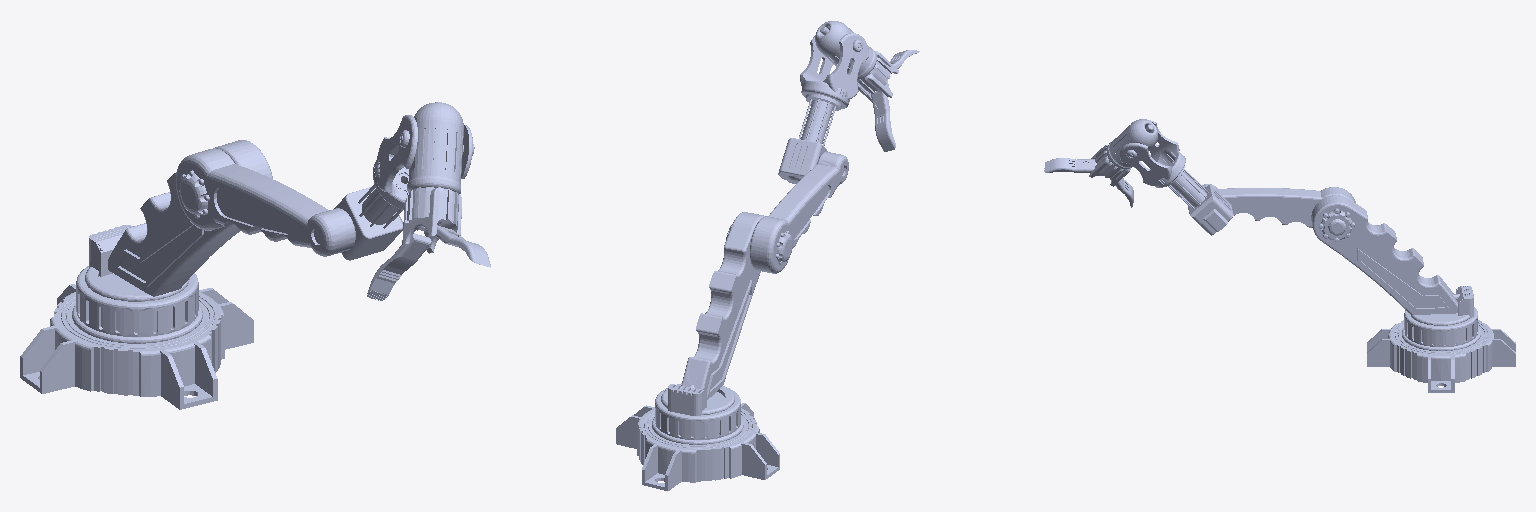
URDF robot description (URDF_File):
<?xml version="1.0" encoding="utf-8"?>
<!-- This URDF was automatically created by SolidWorks to URDF Exporter! Originally created by Stephen Brawner (brawner@gmail.com) 
     Commit Version: 1.6.0-4-g7f85cfe  Build Version: 1.6.7995.38578
     For more information, please see http://wiki.ros.org/sw_urdf_exporter -->
<robot
  name="URDF_File">
  <link
    name="base_link">
    <inertial>
      <origin
        xyz="0.734997102971328 0.912682713959791 1.66092425300606"
        rpy="0 0 0" />
      <mass
        value="0.19683911198545" />
      <inertia
        ixx="0.000157602923532635"
        ixy="-2.95697983666656E-12"
        ixz="-2.34713669448435E-12"
        iyy="0.000288935019063439"
        iyz="-6.78167971117147E-13"
        izz="0.00015760293085515" />
    </inertial>
    <visual>
      <origin
        xyz="0 0 0"
        rpy="0 0 0" />
      <geometry>
        <mesh
          filename="package://URDF_File/meshes/base_link.STL" />
      </geometry>
      <material
        name="">
        <color
          rgba="0.792156862745098 0.819607843137255 0.933333333333333 1" />
      </material>
    </visual>
    <collision>
      <origin
        xyz="0 0 0"
        rpy="0 0 0" />
      <geometry>
        <mesh
          filename="package://URDF_File/meshes/base_link.STL" />
      </geometry>
    </collision>
  </link>
  <link
    name="link_1">
    <inertial>
      <origin
        xyz="-0.0352534137532734 0.0544764472605392 0.000165900412199216"
        rpy="0 0 0" />
      <mass
        value="0.216437188994971" />
      <inertia
        ixx="0.000425816899607148"
        ixy="0.00034824136714245"
        ixz="2.3243694230645E-06"
        iyy="0.00040780769416716"
        iyz="-2.35242628739174E-06"
        izz="0.000774828097723678" />
    </inertial>
    <visual>
      <origin
        xyz="0 0 0"
        rpy="0 0 0" />
      <geometry>
        <mesh
          filename="package://URDF_File/meshes/link_1.STL" />
      </geometry>
      <material
        name="">
        <color
          rgba="0.792156862745098 0.819607843137255 0.933333333333333 1" />
      </material>
    </visual>
    <collision>
      <origin
        xyz="0 0 0"
        rpy="0 0 0" />
      <geometry>
        <mesh
          filename="package://URDF_File/meshes/link_1.STL" />
      </geometry>
    </collision>
  </link>
  <joint
    name="joint_1"
    type="revolute">
    <origin
      xyz="0.735 -1.6609 0.92692"
      rpy="1.5708 0 1.6636" />
    <parent
      link="base_link" />
    <child
      link="link_1" />
    <axis
      xyz="0 1 0" />
    <limit
      lower="-1.6636"
      upper="4.6195"
      effort="0"
      velocity="0" />
  </joint>
  <link
    name="link_2">
    <inertial>
      <origin
        xyz="0.0303906357249393 0.0327151697944846 -0.0198594675292627"
        rpy="0 0 0" />
      <mass
        value="0.0829500212065481" />
      <inertia
        ixx="9.77626418552881E-05"
        ixy="-7.8855513346753E-05"
        ixz="-1.66094857110532E-06"
        iyy="8.03607749319589E-05"
        iyz="-1.8454306535632E-06"
        izz="0.000172168894460945" />
    </inertial>
    <visual>
      <origin
        xyz="0 0 0"
        rpy="0 0 0" />
      <geometry>
        <mesh
          filename="package://URDF_File/meshes/link_2.STL" />
      </geometry>
      <material
        name="">
        <color
          rgba="0.792156862745098 0.819607843137255 0.933333333333333 1" />
      </material>
    </visual>
    <collision>
      <origin
        xyz="0 0 0"
        rpy="0 0 0" />
      <geometry>
        <mesh
          filename="package://URDF_File/meshes/link_2.STL" />
      </geometry>
    </collision>
  </link>
  <joint
    name="joint_2"
    type="revolute">
    <origin
      xyz="-0.1 0.12 0"
      rpy="0 0 2.1453" />
    <parent
      link="link_1" />
    <child
      link="link_2" />
    <axis
      xyz="0 0 1" />
    <limit
      lower="-0.5745"
      upper="2.0435"
      effort="0"
      velocity="0" />
  </joint>
  <link
    name="link_3">
    <inertial>
      <origin
        xyz="0.00544015056289993 -4.93319948886572E-05 0.0103108380935137"
        rpy="0 0 0" />
      <mass
        value="0.0380413662386378" />
      <inertia
        ixx="1.67487659030387E-05"
        ixy="-8.26029449611265E-10"
        ixz="2.51459733542313E-07"
        iyy="1.68304213957508E-05"
        iyz="-1.93499512028125E-08"
        izz="4.59398992732497E-06" />
    </inertial>
    <visual>
      <origin
        xyz="0 0 0"
        rpy="0 0 0" />
      <geometry>
        <mesh
          filename="package://URDF_File/meshes/link_3.STL" />
      </geometry>
      <material
        name="">
        <color
          rgba="0.792156862745098 0.819607843137255 0.933333333333333 1" />
      </material>
    </visual>
    <collision>
      <origin
        xyz="0 0 0"
        rpy="0 0 0" />
      <geometry>
        <mesh
          filename="package://URDF_File/meshes/link_3.STL" />
      </geometry>
    </collision>
  </link>
  <joint
    name="joint_3"
    type="revolute">
    <origin
      xyz="0.08 0.09 0"
      rpy="0.020517 -1.5708 -2.9892" />
    <parent
      link="link_2" />
    <child
      link="link_3" />
    <axis
      xyz="1 0 0" />
    <limit
      lower="-3.6652"
      upper="0"
      effort="0"
      velocity="0" />
  </joint>
  <link
    name="link_4">
    <inertial>
      <origin
        xyz="-0.0576492255972498 -4.46302905572349E-05 -2.06911421329892E-09"
        rpy="0 0 0" />
      <mass
        value="0.0155107195890674" />
      <inertia
        ixx="4.94934587476133E-06"
        ixy="-7.38219625007412E-09"
        ixz="-1.58763518083502E-13"
        iyy="8.63267926714746E-06"
        iyz="2.24331897575693E-12"
        izz="6.62214527950041E-06" />
    </inertial>
    <visual>
      <origin
        xyz="0 0 0"
        rpy="0 0 0" />
      <geometry>
        <mesh
          filename="package://URDF_File/meshes/link_4.STL" />
      </geometry>
      <material
        name="">
        <color
          rgba="0.792156862745098 0.819607843137255 0.933333333333333 1" />
      </material>
    </visual>
    <collision>
      <origin
        xyz="0 0 0"
        rpy="0 0 0" />
      <geometry>
        <mesh
          filename="package://URDF_File/meshes/link_4.STL" />
      </geometry>
    </collision>
  </link>
  <joint
    name="joint_4"
    type="revolute">
    <origin
      xyz="0.005 0 0.016686"
      rpy="-2.5855 1.5708 0.10203" />
    <parent
      link="link_3" />
    <child
      link="link_4" />
    <axis
      xyz="1 0 0" />
    <limit
      lower="-2.7012"
      upper="3.5819"
      effort="0"
      velocity="0" />
  </joint>
  <link
    name="link_5">
    <inertial>
      <origin
        xyz="0.00529334678960258 -5.04345454288568E-10 3.74202779873656E-10"
        rpy="0 0 0" />
      <mass
        value="0.0341873154887201" />
      <inertia
        ixx="3.71520745752416E-06"
        ixy="-3.00966001083494E-13"
        ixz="1.05051905342285E-13"
        iyy="8.9897176822164E-06"
        iyz="-9.69600768832662E-13"
        izz="9.03156179709511E-06" />
    </inertial>
    <visual>
      <origin
        xyz="0 0 0"
        rpy="0 0 0" />
      <geometry>
        <mesh
          filename="package://URDF_File/meshes/link_5.STL" />
      </geometry>
      <material
        name="">
        <color
          rgba="0.792156862745098 0.819607843137255 0.933333333333333 1" />
      </material>
    </visual>
    <collision>
      <origin
        xyz="0 0 0"
        rpy="0 0 0" />
      <geometry>
        <mesh
          filename="package://URDF_File/meshes/link_5.STL" />
      </geometry>
    </collision>
  </link>
  <joint
    name="joint_5"
    type="revolute">
    <origin
      xyz="-0.086314 0 0"
      rpy="0 0 1.3734" />
    <parent
      link="link_4" />
    <child
      link="link_5" />
    <axis
      xyz="0 0 1" />
    <limit
      lower="-2.9442"
      upper="0.54645"
      effort="0"
      velocity="0" />
  </joint>
  <link
    name="link_6">
    <inertial>
      <origin
        xyz="-3.89770926645383E-09 -5.23870573113927E-05 0.0142195256677706"
        rpy="0 0 0" />
      <mass
        value="0.0150583556968641" />
      <inertia
        ixx="1.55157683877852E-06"
        ixy="1.54742030779095E-12"
        ixz="4.8383520530189E-13"
        iyy="1.62221000287817E-06"
        iyz="-8.33726923777709E-10"
        izz="1.74198491814524E-06" />
    </inertial>
    <visual>
      <origin
        xyz="0 0 0"
        rpy="0 0 0" />
      <geometry>
        <mesh
          filename="package://URDF_File/meshes/link_6.STL" />
      </geometry>
      <material
        name="">
        <color
          rgba="0.792156862745098 0.819607843137255 0.933333333333333 1" />
      </material>
    </visual>
    <collision>
      <origin
        xyz="0 0 0"
        rpy="0 0 0" />
      <geometry>
        <mesh
          filename="package://URDF_File/meshes/link_6.STL" />
      </geometry>
    </collision>
  </link>
  <joint
    name="joint_6"
    type="revolute">
    <origin
      xyz="0.025363 0 0"
      rpy="1.5708 0.28273 1.5708" />
    <parent
      link="link_5" />
    <child
      link="link_6" />
    <axis
      xyz="0 0 1" />
    <limit
      lower="-0.28273"
      upper="6.0005"
      effort="0"
      velocity="0" />
  </joint>
  <link
    name="link_7">
    <inertial>
      <origin
        xyz="-0.00447681231299057 -0.0144631037416774 -7.52606216236629E-09"
        rpy="0 0 0" />
      <mass
        value="0.00580597798039116" />
      <inertia
        ixx="5.22900763142685E-07"
        ixy="-2.35646740752439E-07"
        ixz="-6.21590753414232E-12"
        iyy="7.07442158699929E-07"
        iyz="-4.33838155244568E-12"
        izz="1.05417130612548E-06" />
    </inertial>
    <visual>
      <origin
        xyz="0 0 0"
        rpy="0 0 0" />
      <geometry>
        <mesh
          filename="package://URDF_File/meshes/link_7.STL" />
      </geometry>
      <material
        name="">
        <color
          rgba="0.792156862745098 0.819607843137255 0.933333333333333 1" />
      </material>
    </visual>
    <collision>
      <origin
        xyz="0 0 0"
        rpy="0 0 0" />
      <geometry>
        <mesh
          filename="package://URDF_File/meshes/link_7.STL" />
      </geometry>
    </collision>
  </link>
  <joint
    name="joint_7"
    type="revolute">
    <origin
      xyz="0.01185 0 0.030137"
      rpy="-1.5708 -0.59879 0" />
    <parent
      link="link_6" />
    <child
      link="link_7" />
    <axis
      xyz="0 0 1" />
    <limit
      lower="-0.42426"
      upper="0.972"
      effort="0"
      velocity="0" />
  </joint>
</robot>

--- What the picture shows (computed from the rendered views, not written in the file) ---
Views: 3 orthographic renders of the robot side by side, from view 1: azimuth 30°, elevation 25°; view 2: azimuth 150°, elevation 25°; view 3: azimuth 270°, elevation 25°.
Robot: URDF_File — 8 links, 7 joints (7 revolute); root link base_link; default pose: every joint at zero.
Links seen in each view (by area): view 1: base_link, link_1, link_2, link_5, link_4, link_3, link_6, link_7; view 2: link_1, base_link, link_2, link_4, link_3, link_5, link_7, link_6; view 3: link_1, base_link, link_2, link_4, link_3, link_5, link_7, link_6.
Link boxes in pixels (left/top/right/bottom): base_link: left=20, top=284, right=253, bottom=409; link_1: left=76, top=140, right=272, bottom=336; link_2: left=176, top=148, right=355, bottom=256; link_5: left=407, top=102, right=463, bottom=193; link_4: left=373, top=115, right=474, bottom=209; link_3: left=334, top=184, right=402, bottom=260; link_6: left=402, top=187, right=461, bottom=253; link_7: left=367, top=225, right=490, bottom=300; link_1: left=655, top=212, right=764, bottom=439; base_link: left=616, top=403, right=779, bottom=490; link_2: left=750, top=152, right=848, bottom=273; link_4: left=800, top=33, right=868, bottom=108; link_3: left=778, top=94, right=841, bottom=183; link_5: left=815, top=21, right=876, bottom=79; link_7: left=871, top=50, right=919, bottom=151; link_6: left=857, top=51, right=898, bottom=101; link_1: left=1311, top=195, right=1477, bottom=346; base_link: left=1367, top=320, right=1515, bottom=392; link_2: left=1202, top=184, right=1355, bottom=227; link_4: left=1120, top=119, right=1185, bottom=187; link_3: left=1165, top=166, right=1233, bottom=235; link_5: left=1107, top=119, right=1157, bottom=169; link_7: left=1044, top=158, right=1133, bottom=207; link_6: left=1089, top=145, right=1130, bottom=186.
Size in the robot's own frame: 0.14 by 0.4443 by 0.2672 metres.
Meshes: 8 distinct files referenced, 8 mesh visuals loaded (8 binary STL).
